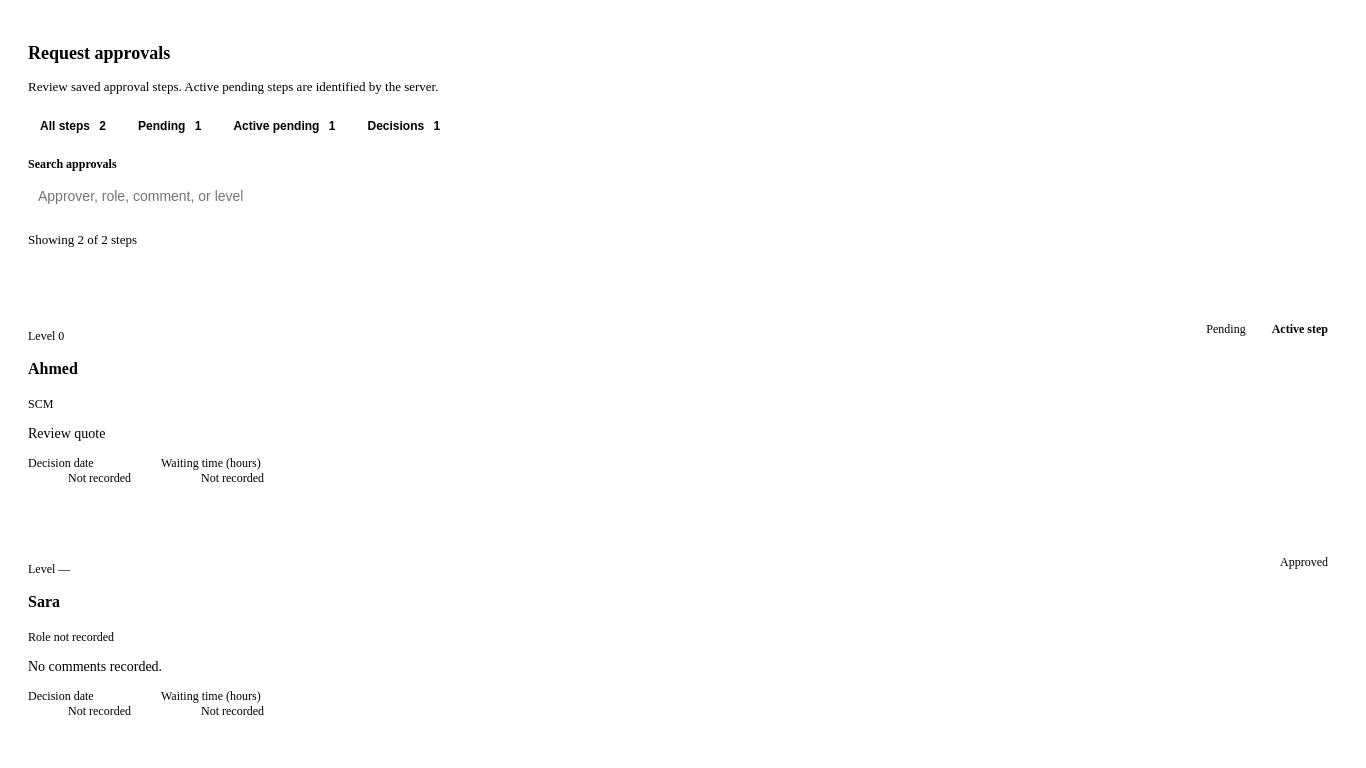
combines view and cross-field search, then resets an empty result
Click the button "Active pending 1" at (284, 126), box [221,111,347,141]
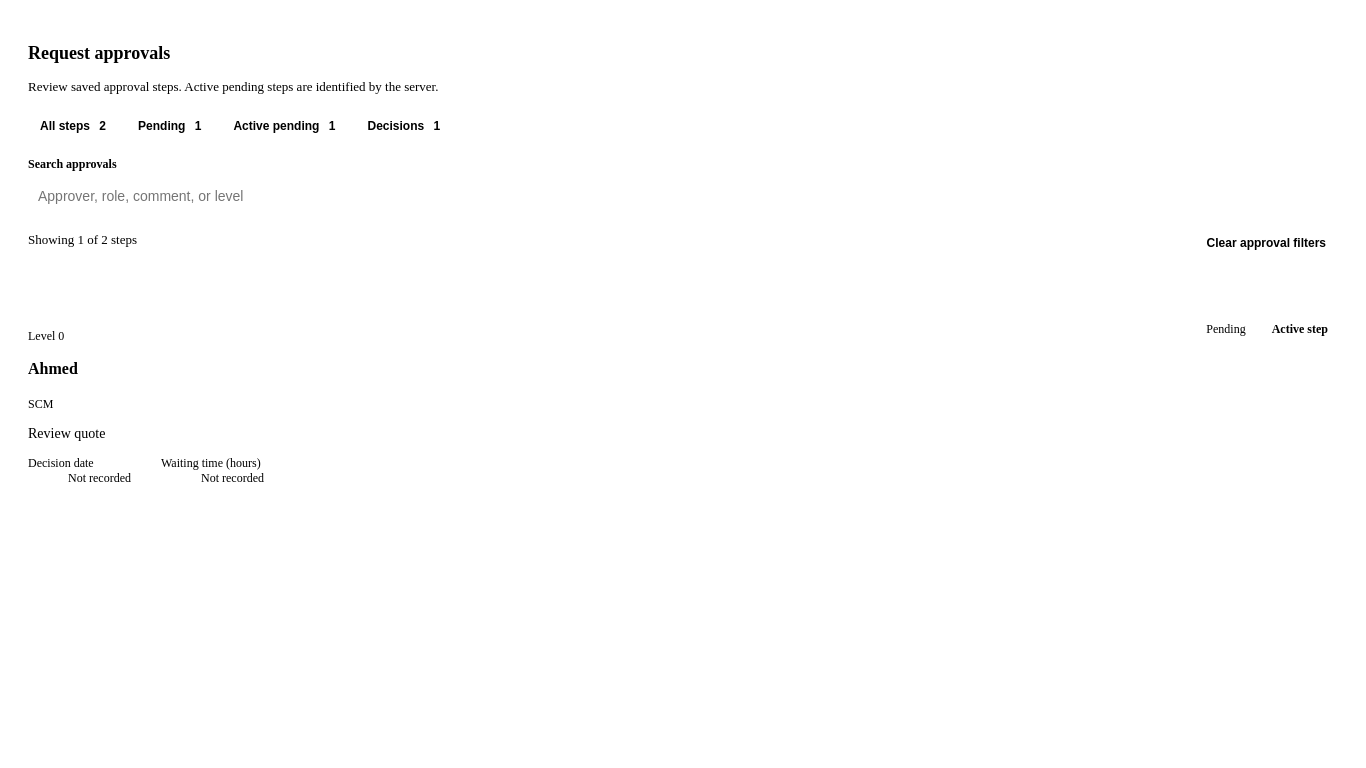
Expected: the text "Level 0" is shown, [28,329,64,343]
Result: the heading "Sara" is gone
Type "Ahmed SCM quote" into the search field at (683, 196), box [28,178,1338,214]
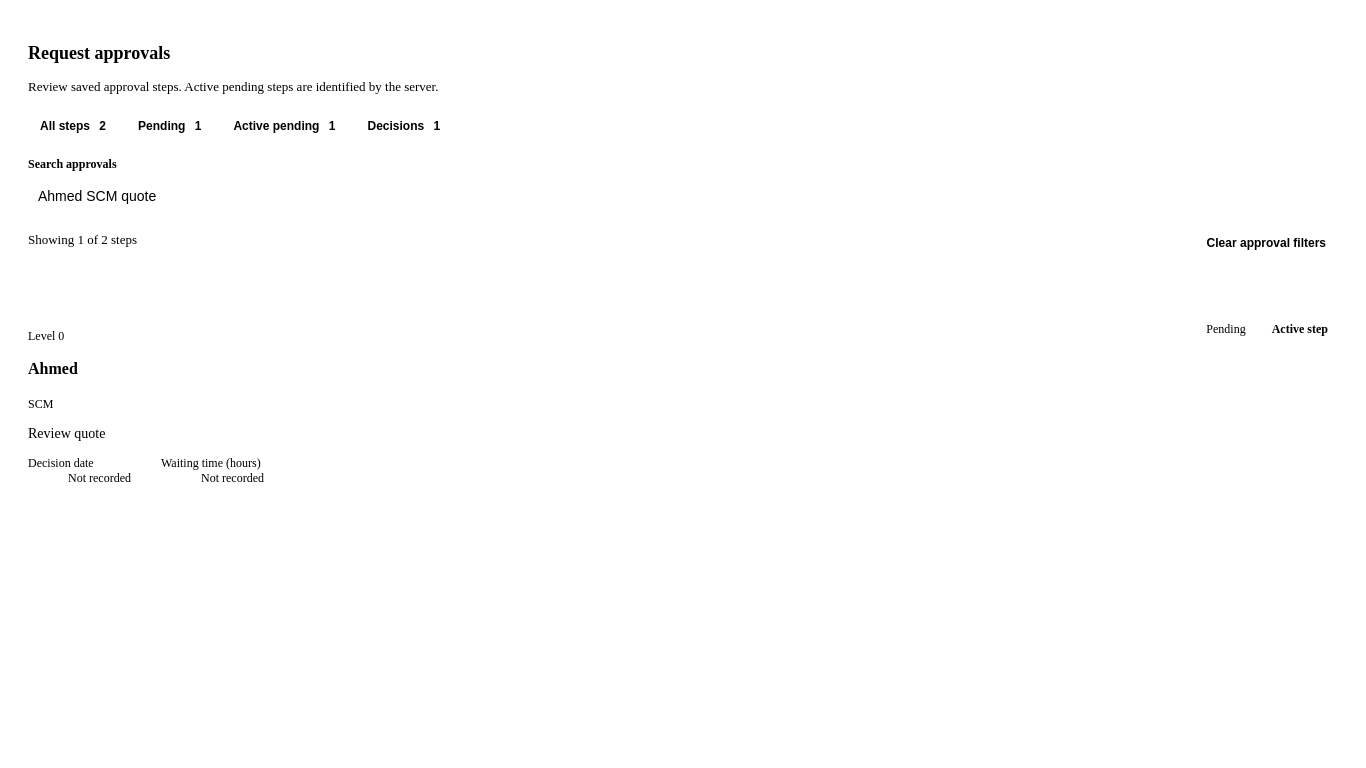
Expected: the heading "Ahmed" is shown, [28,360,78,378]
Replace the text in the search field with "missing" at (683, 196), box [28,178,1338,214]
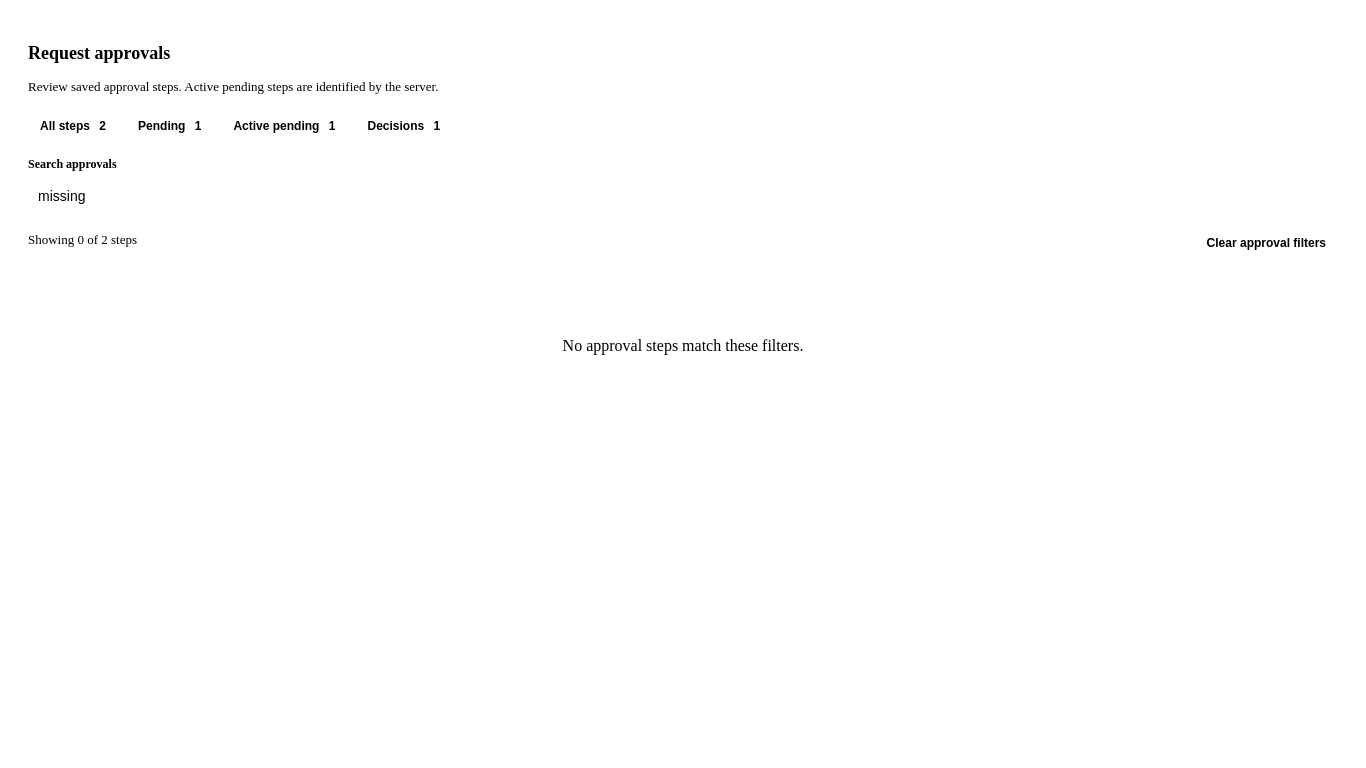
Result: the text "No approval steps match these filters." is shown at [563,337,803,354]
Click the button "Clear approval filters" at (1266, 243), box [1195,228,1338,258]
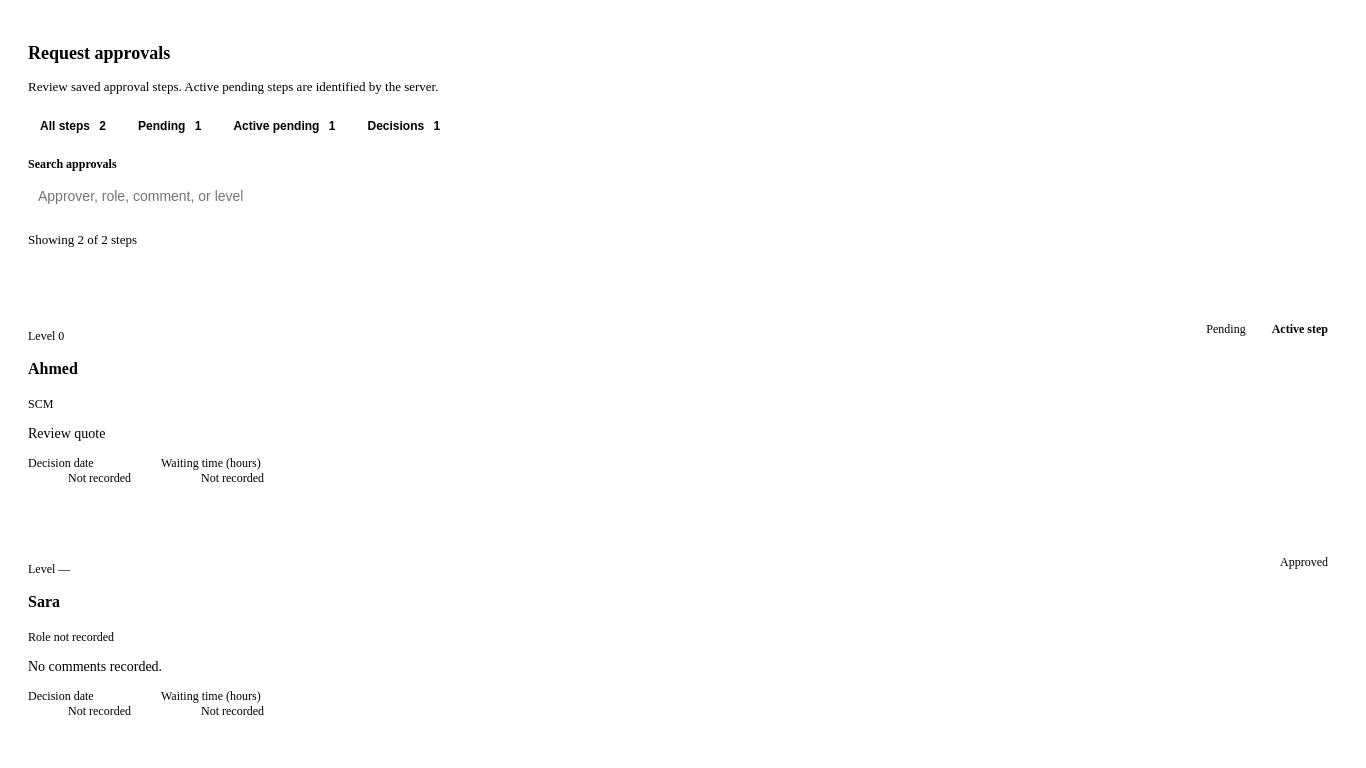
Result: the heading "Sara" is shown at [28,593,60,610]
Result: the text "Active step" is shown once at [1272,322,1328,336]
